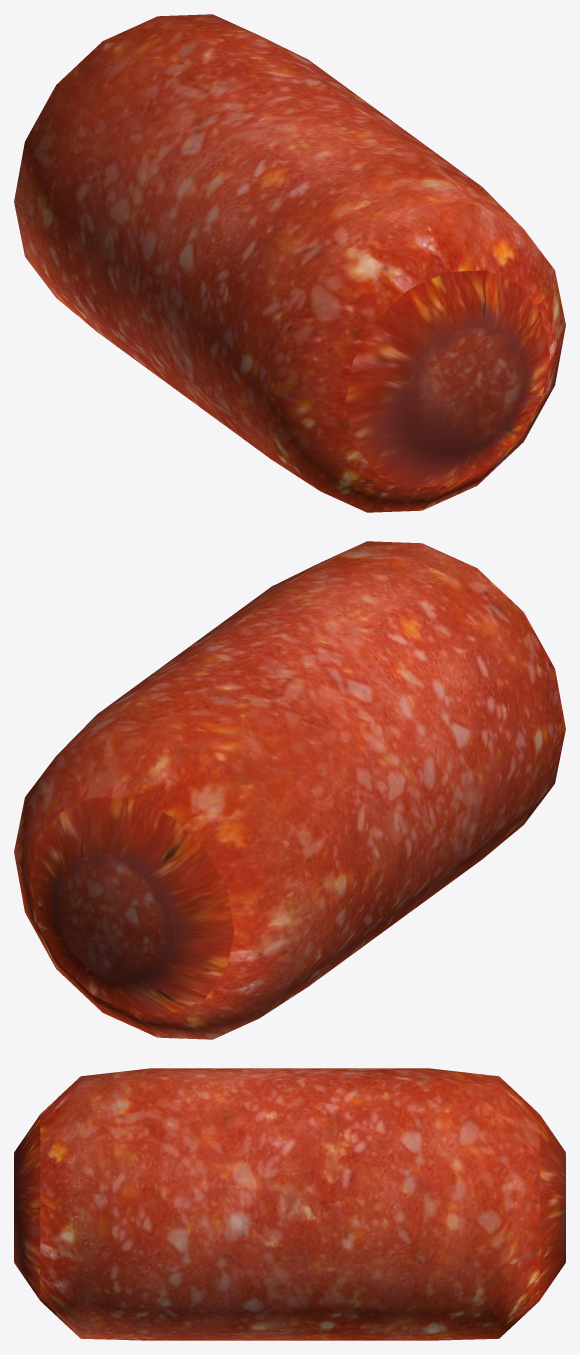
Rendered from Salami.fbx.
3 views of the same model, one above another, from view 1: azimuth 30°, elevation 25°; view 2: azimuth 150°, elevation 25°; view 3: azimuth 270°, elevation 25° (orthographic). The views are drawn at different scales.
Parts seen in each view (by area): view 1: Salami; view 2: Salami; view 3: Salami.
Boxes of the visible parts, bbox=[...] form: Salami: bbox=[14, 14, 565, 512]; Salami: bbox=[14, 541, 565, 1039]; Salami: bbox=[14, 1068, 565, 1340].
Size of the model in its own units: 16.34 by 16.34 by 33.06.
